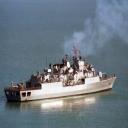Fragata: (5, 40, 118, 104)
